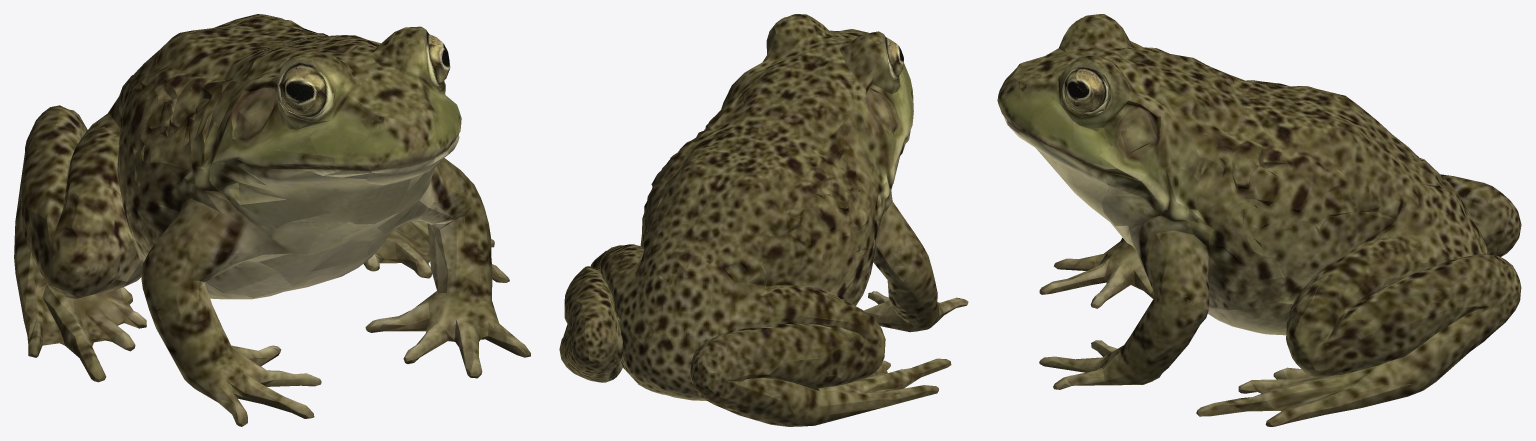
Rendered from sp_m_frogbull.glb.
The picture shows the model from 3 angles, left to right: view 1: azimuth 30°, elevation 25°; view 2: azimuth 150°, elevation 25°; view 3: azimuth 270°, elevation 25°; orthographic projection. The views are drawn at different scales.
Visible parts, largest first — view 1: Mesh_0; view 2: Mesh_0; view 3: Mesh_0.
Part boxes in pixels (box(x1,y1,x2,y2)): Mesh_0: box(14, 14, 530, 426); Mesh_0: box(559, 14, 968, 426); Mesh_0: box(997, 14, 1521, 426).
Bounding box in the file's own units: 1.7 × 1.17 × 1.9.
Materials: 1 (1 with a texture image).
